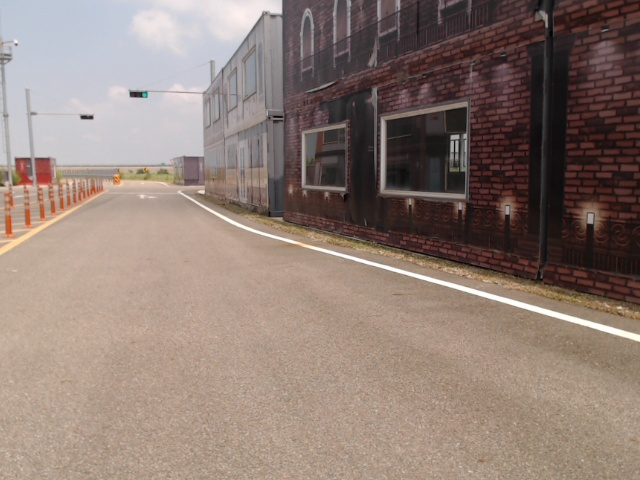green_3: (129, 91, 148, 99)
